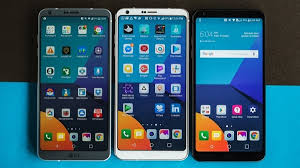lg: (34, 5, 112, 163), (111, 5, 189, 163), (191, 6, 269, 164)
